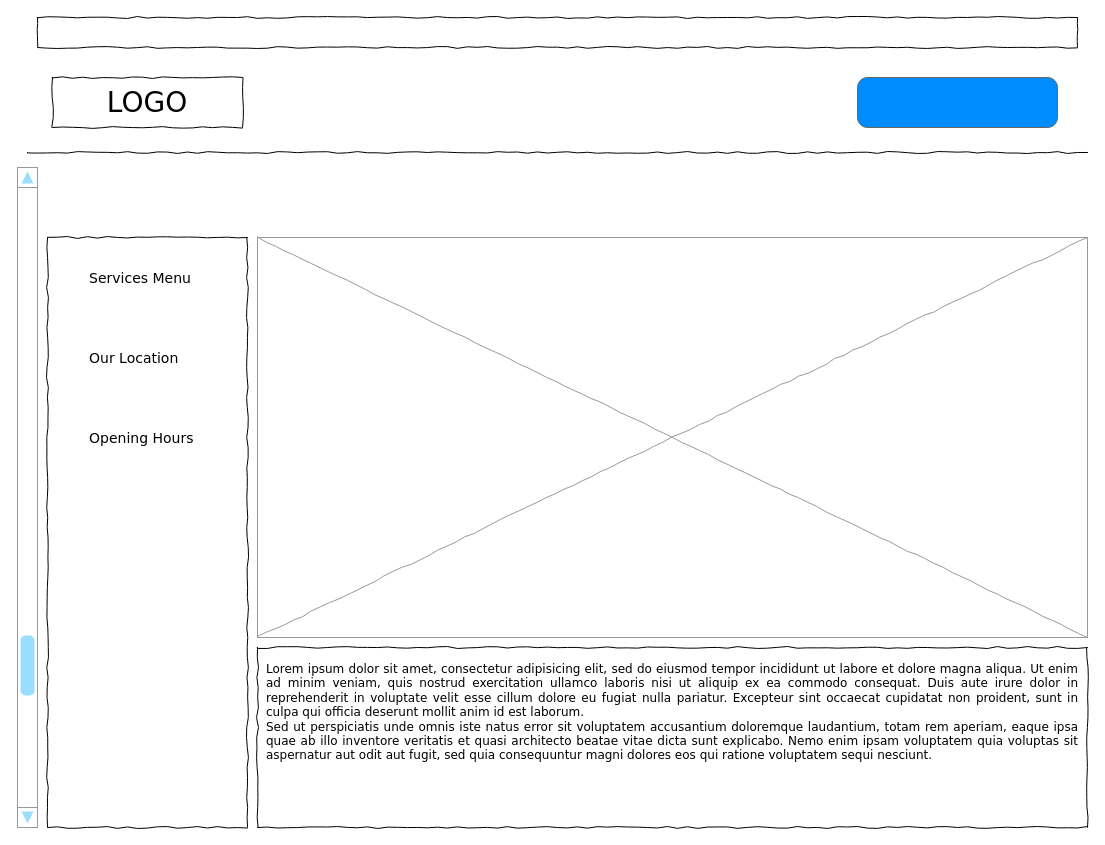
The diagram is 1105 pixels wide and 845 high, and some of its shapes have lost their labels. Here are the shapes that lost their labels. From the top down, the centre of each, then its label:
the point at 557,32: navbar
the point at 957,102: Book Online!
